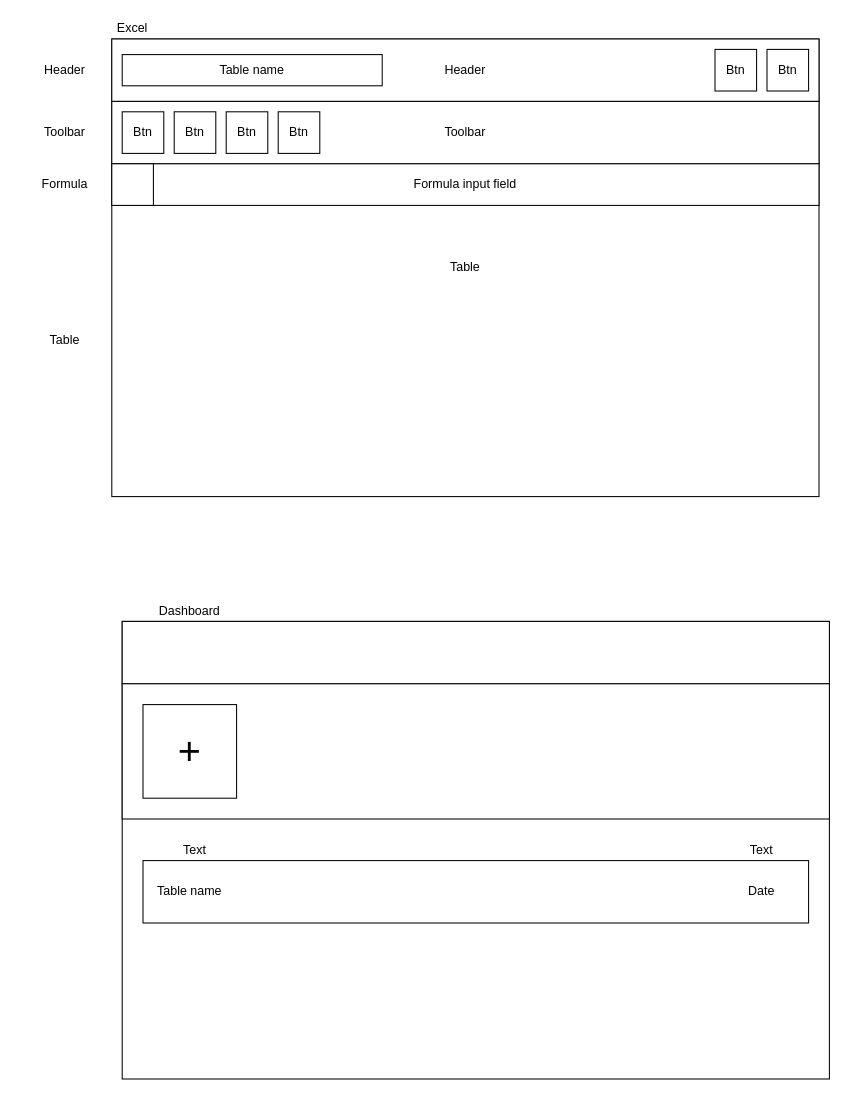
Some shapes in this 848 by 1097 pixel diagram are drawn without their labels. The centre of each missing label's shape, as x and y in pixels:
"Excel dashboard" belongs at point 475,652.
"fx" belongs at point 132,184.
